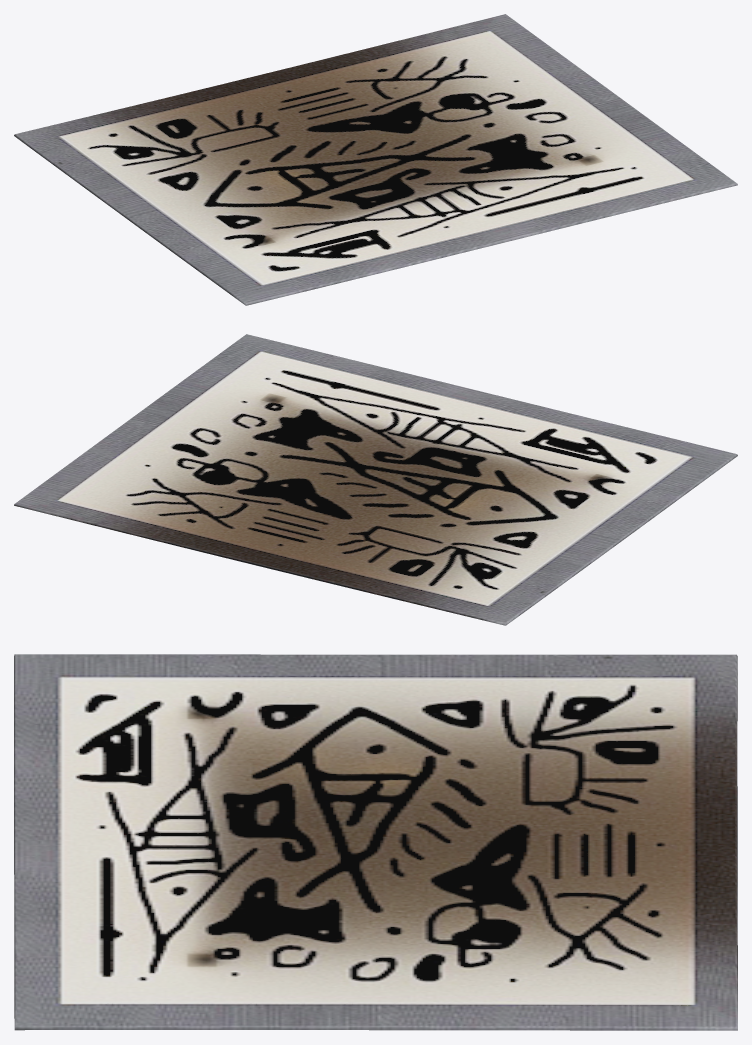
Rendered from chuang01.17.obj.
3 views of the same model, one above another, from view 1: azimuth 30°, elevation 25°; view 2: azimuth 150°, elevation 25°; view 3: azimuth 270°, elevation 25° (orthographic). The views are drawn at different scales.
Visible parts, largest first — view 1: 090; view 2: 090; view 3: 090.
Part boxes in pixels (x1,y1,x2,y2): 090: [14, 14, 737, 305]; 090: [14, 334, 737, 625]; 090: [14, 654, 737, 1030].
Size of the model in its own units: 215 by 1.41 by 175.
